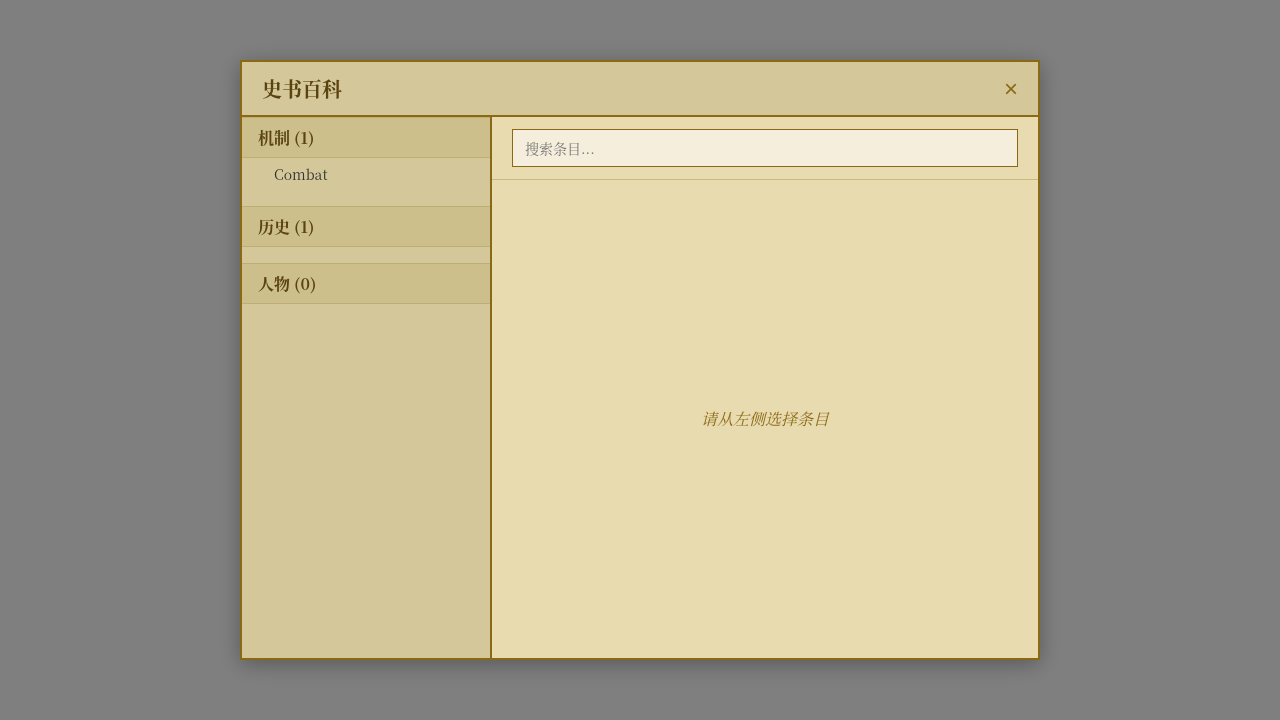
CodexPanel › shows M1 empty state when 0 character templates
Click the text with test id "codex-category-characters" at (366,284), box [242,263,490,304]
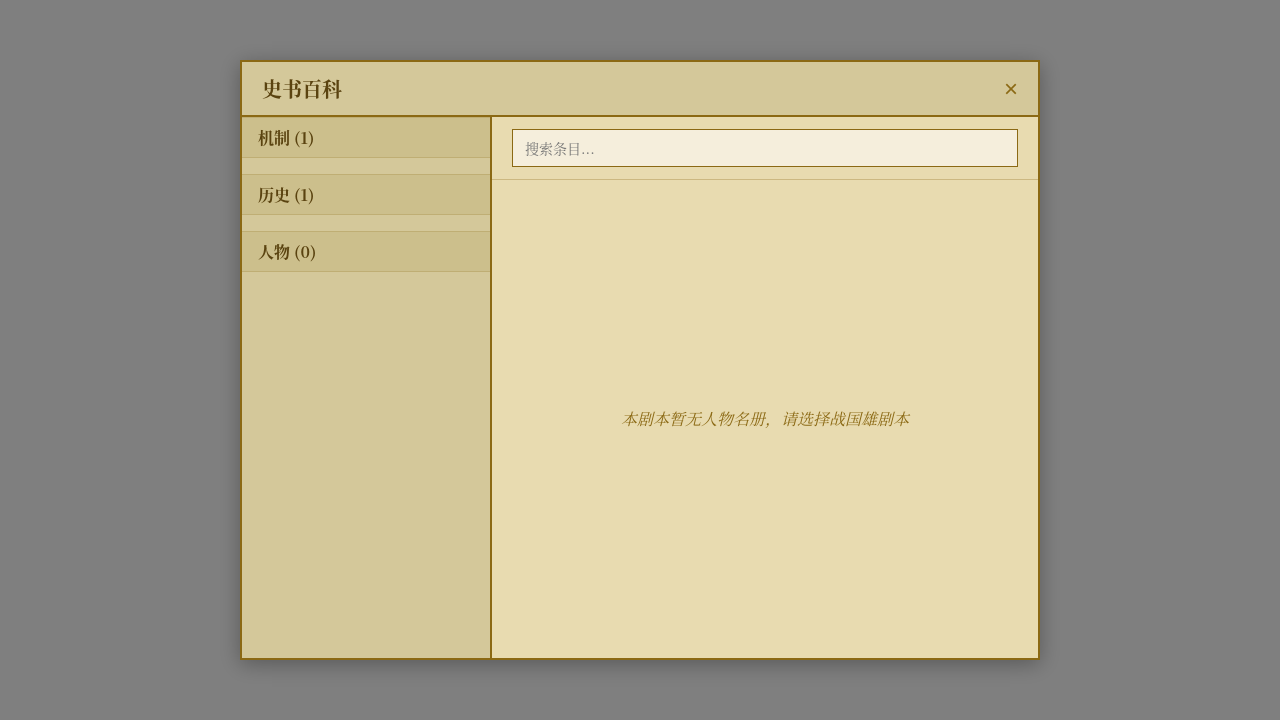
Now the text with test id "codex-empty-state-m1" reads "本剧本暂无人物名册，请选择战国雄剧本", box [621,407,909,430]
